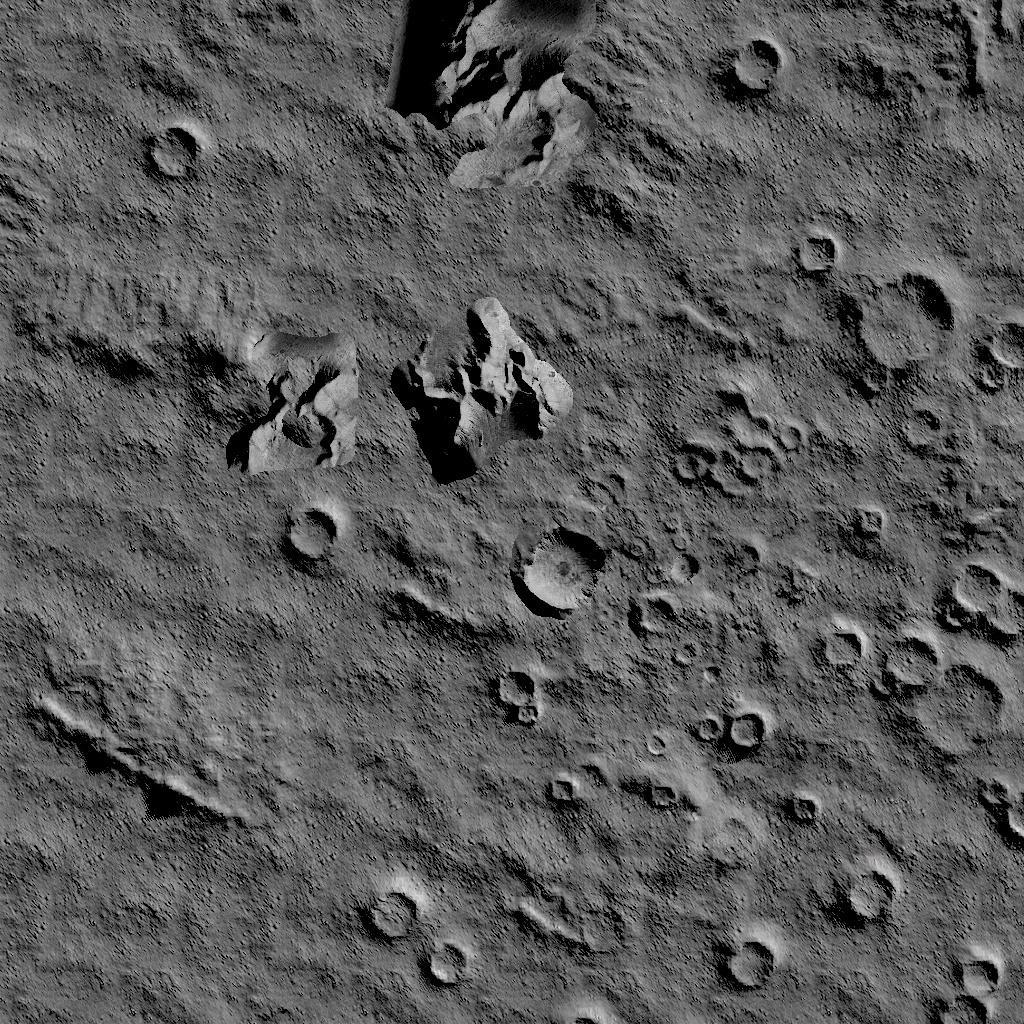Boulders: (5, 256, 369, 478), (380, 0, 672, 242), (387, 294, 577, 490), (30, 680, 250, 840), (360, 510, 496, 644), (0, 140, 51, 242)
Crater: (811, 558, 1024, 756), (849, 260, 1024, 452), (662, 364, 804, 502), (348, 872, 468, 996), (510, 512, 612, 620), (916, 928, 1002, 1024), (629, 550, 713, 638), (702, 32, 796, 109), (275, 494, 350, 584), (132, 114, 210, 196), (828, 852, 902, 934), (709, 920, 782, 994), (683, 698, 774, 754), (480, 662, 556, 728), (973, 766, 1024, 844), (792, 228, 842, 284), (774, 778, 824, 832), (544, 762, 588, 817), (544, 990, 612, 1024), (846, 500, 891, 548), (638, 769, 681, 818)
Plan surface: (2, 858, 330, 1024), (5, 492, 254, 660), (271, 656, 467, 829), (230, 54, 360, 238), (761, 130, 1024, 212)
